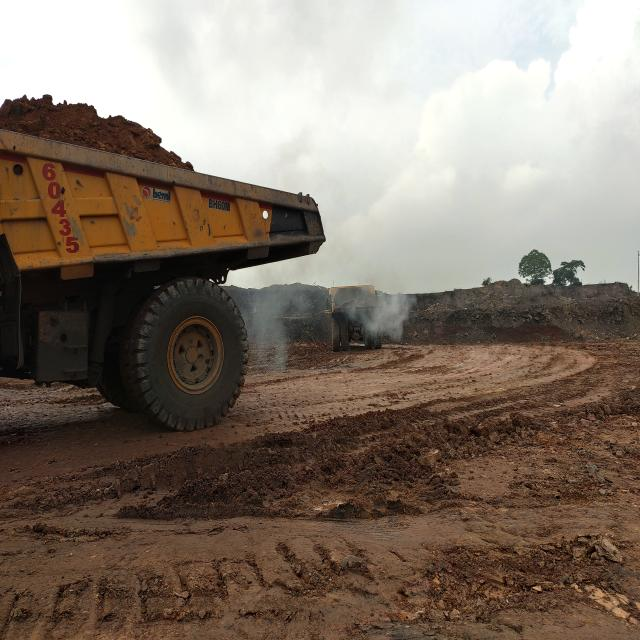dump_truck: (0, 98, 326, 432), (327, 284, 385, 351)
